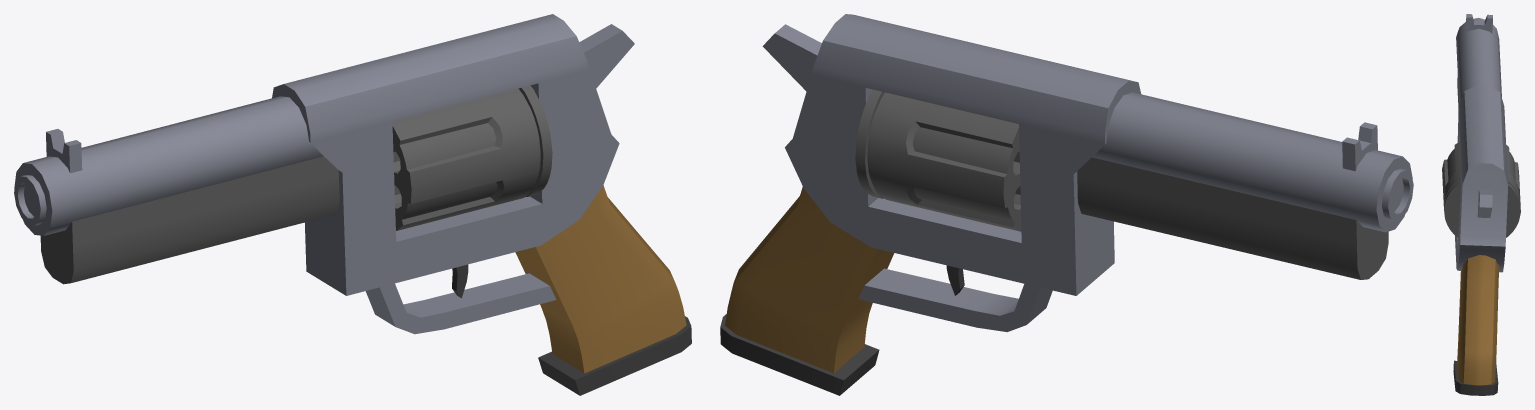
Rendered from Revolver.glb.
3 renders of one model, left to right at view 1: azimuth 30°, elevation 25°; view 2: azimuth 150°, elevation 25°; view 3: azimuth 270°, elevation 25°, orthographic. The views are drawn at different scales.
Visible parts, largest first — view 1: Revolver; view 2: Revolver; view 3: Revolver.
Boxes of the visible parts, bbox=[...] form: Revolver: bbox=[14, 14, 691, 395]; Revolver: bbox=[720, 14, 1413, 395]; Revolver: bbox=[1442, 14, 1520, 395].
Bounding box in the file's own units: 0.9888 × 0.5289 × 0.1751.
